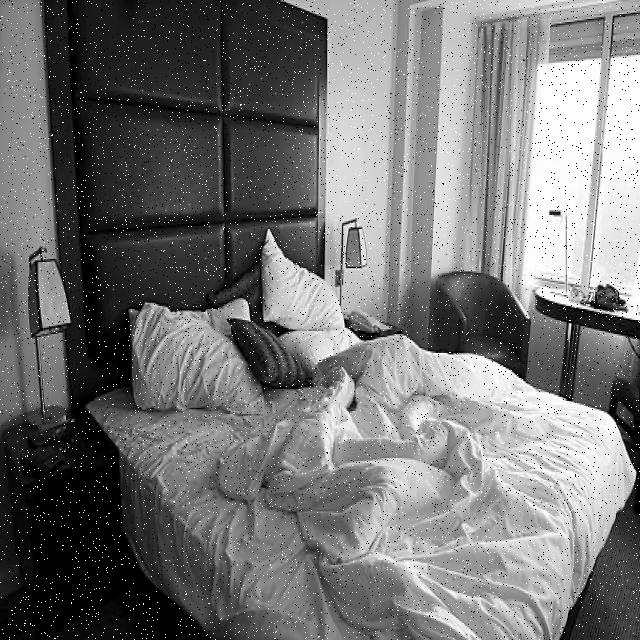bed: (83, 227, 619, 640)
